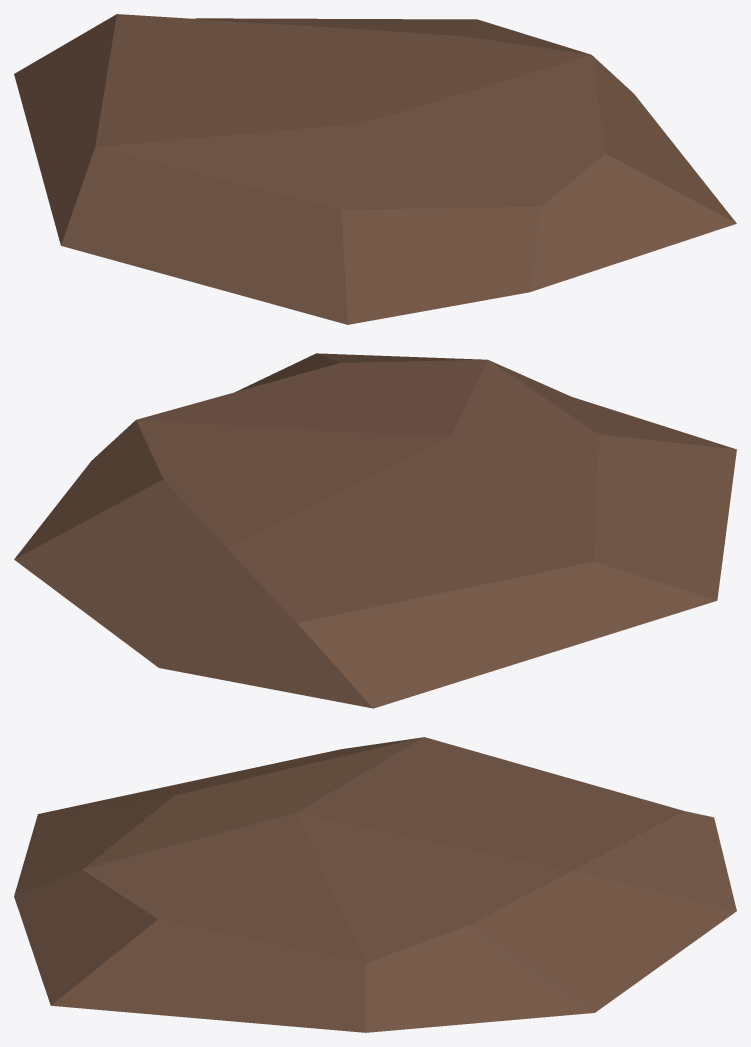
File: pebble2.glb
3 renders of one model, top to bottom at view 1: azimuth 30°, elevation 25°; view 2: azimuth 150°, elevation 25°; view 3: azimuth 270°, elevation 25°, orthographic. The views are drawn at different scales.
Parts seen in each view (by area): view 1: pebble2; view 2: pebble2; view 3: pebble2.
Boxes of the visible parts, <box> form: pebble2: <box>14,14,736,324</box>; pebble2: <box>14,353,736,708</box>; pebble2: <box>14,737,736,1032</box>.
Bounding box in the file's own units: 0.585 × 0.068 × 0.63.
